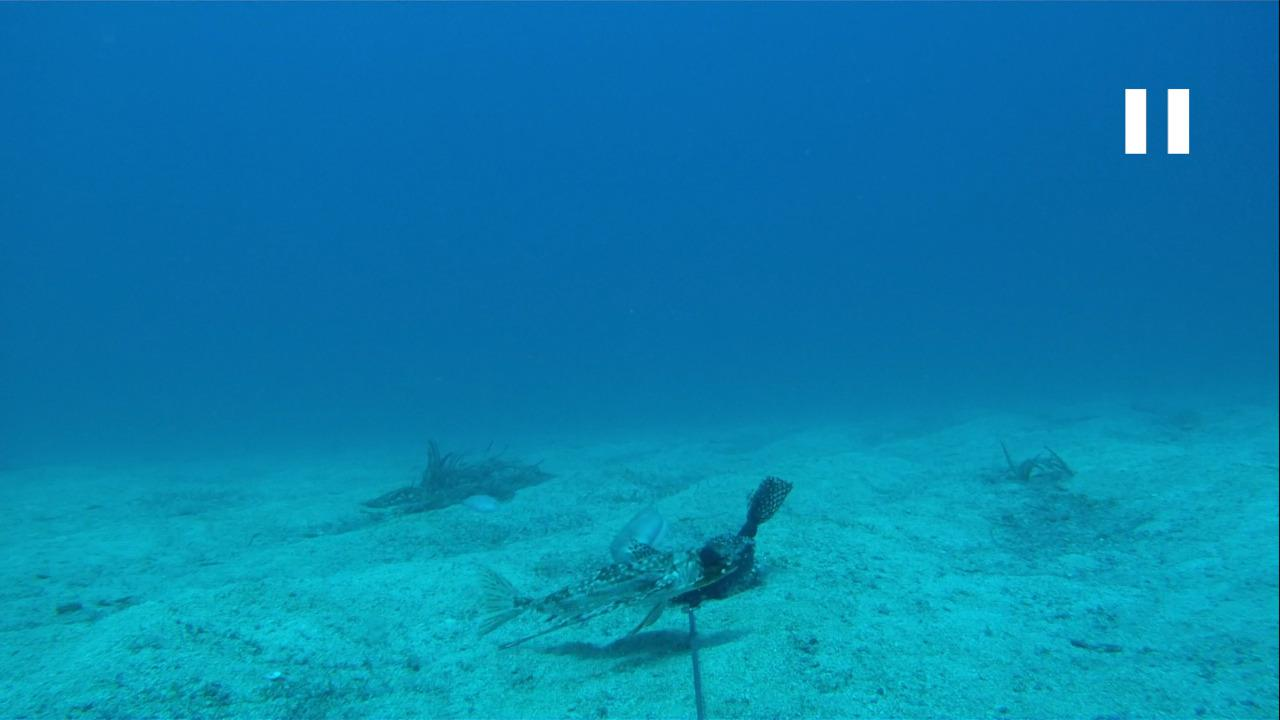dactylopterus: (472, 533, 757, 646)
raor: (604, 495, 665, 560)
